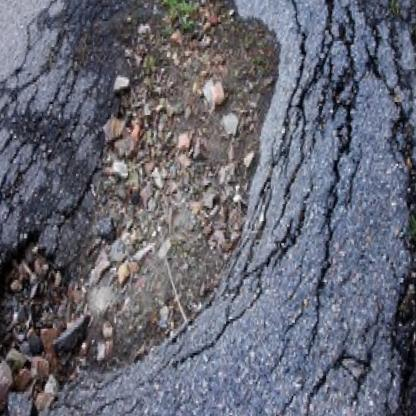pothole: (0, 0, 320, 416)
